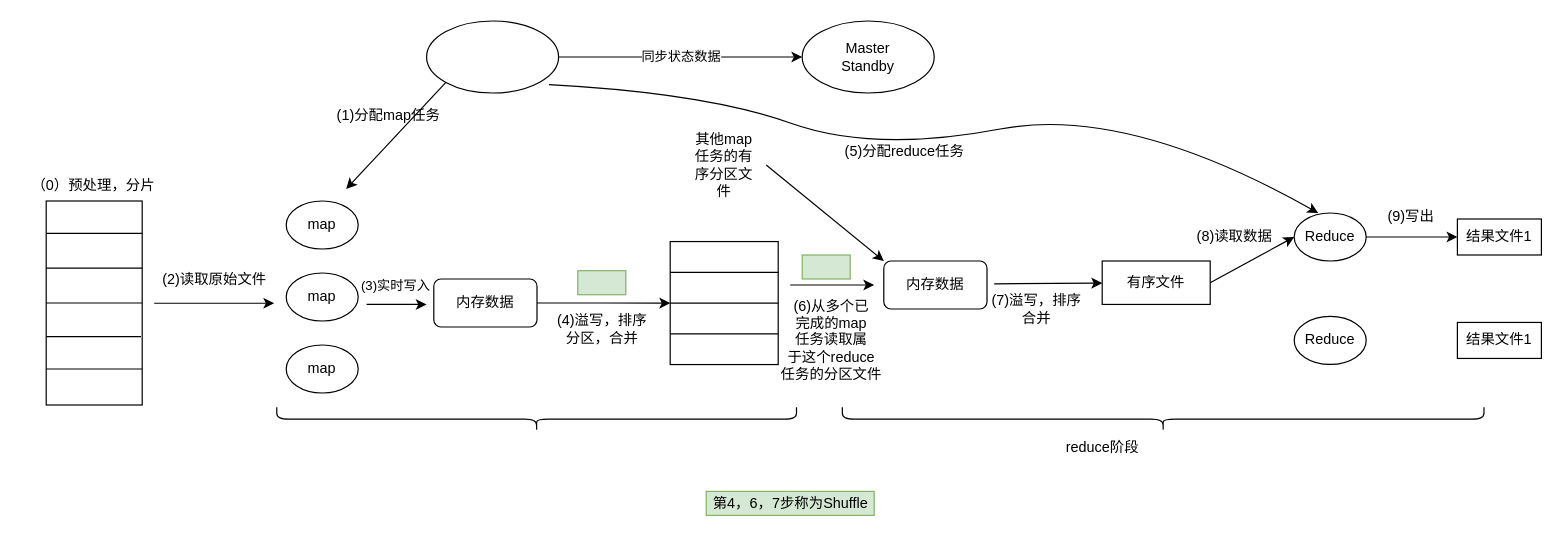
Image size: 1562x536. Some labels were removed from this diagram. The box of each missing label's shape, as (x1, y1, x2, y2) in pixels:
map阶段: (276, 406, 797, 431)
Master: (425, 20, 559, 93)
写本地: (577, 270, 626, 295)
分片1 分片2 分片3 分片4 分片5 分片6: (45, 200, 142, 405)
有序分区文件1 有序分区文件2 有序分区文件3 有序分区文件4: (669, 240, 778, 365)
远程读: (801, 254, 850, 279)
